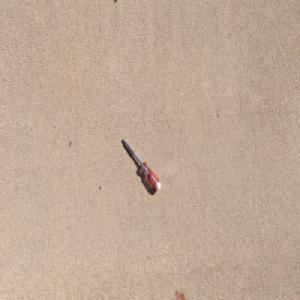Screwdriver: (121, 136, 162, 192)
